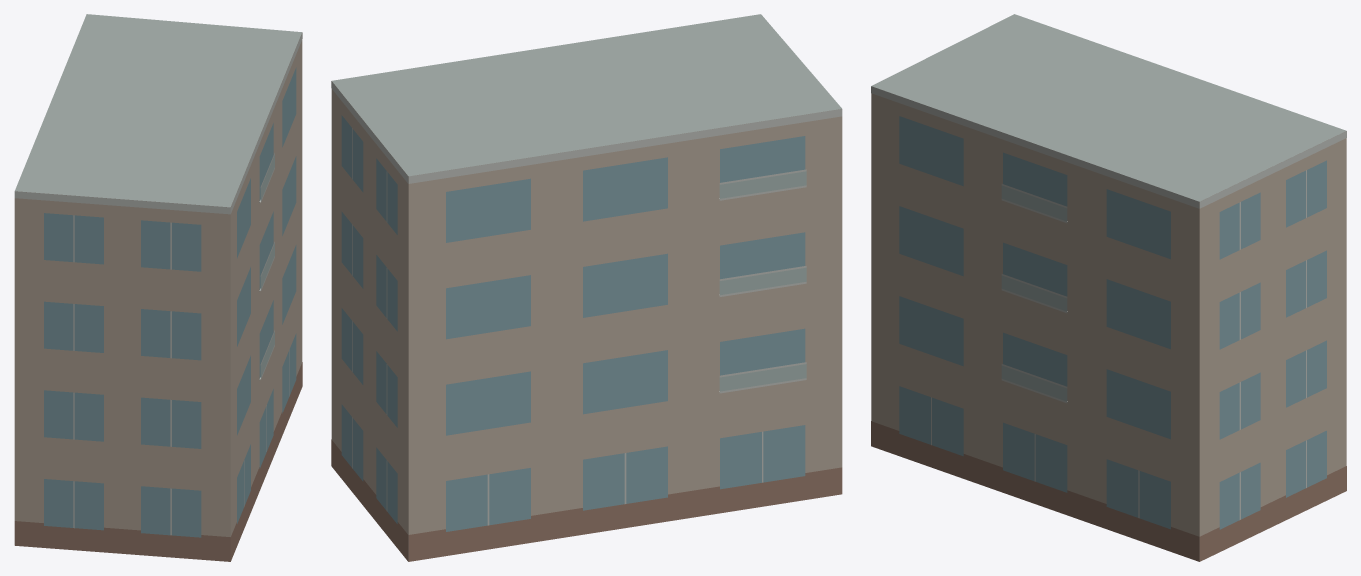
The model's file is survey-upis-32623434.glb.
3 views of the same model, side by side, from view 1: azimuth 30°, elevation 25°; view 2: azimuth 150°, elevation 25°; view 3: azimuth 270°, elevation 25° (orthographic). The views are drawn at different scales.
Visible parts, largest first — view 1: survey-upis-32623434.tmp; view 2: survey-upis-32623434.tmp; view 3: survey-upis-32623434.tmp.
Boxes of the visible parts, bbox=[...] form: survey-upis-32623434.tmp: bbox=[14, 14, 302, 561]; survey-upis-32623434.tmp: bbox=[331, 14, 842, 561]; survey-upis-32623434.tmp: bbox=[871, 14, 1346, 561].
Bounding box in the file's own units: 13.87 × 12.4 × 14.85.
